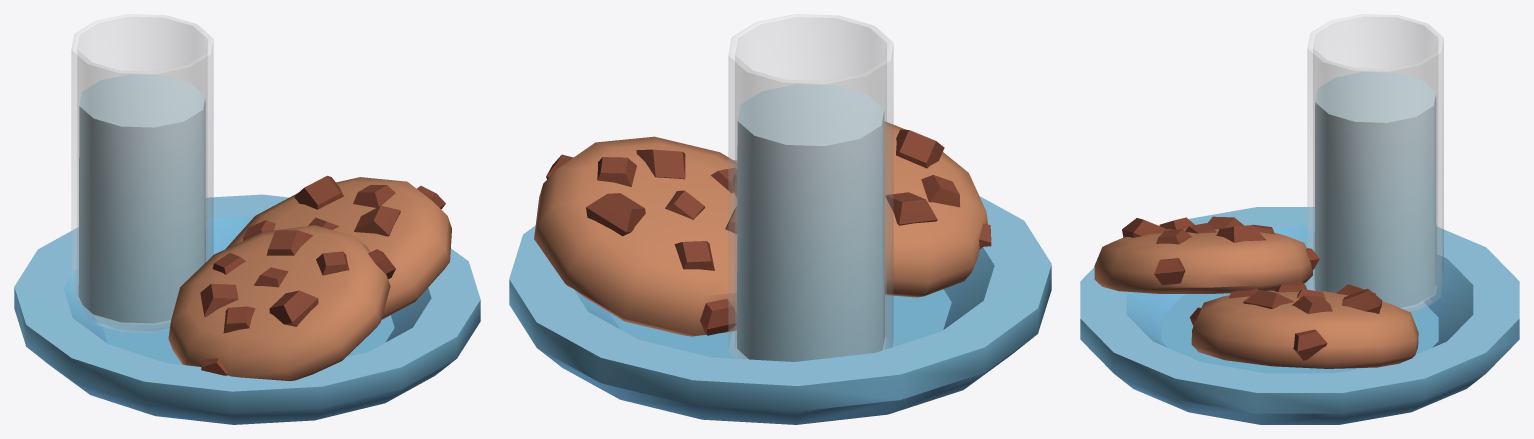
Rendered from plate_decorated_B.gltf.
3 renders of one model, left to right at view 1: azimuth 30°, elevation 25°; view 2: azimuth 150°, elevation 25°; view 3: azimuth 270°, elevation 25°, orthographic. The views are drawn at different scales.
Visible parts, largest first — view 1: plate_decorated_B; view 2: plate_decorated_B; view 3: plate_decorated_B.
Part boxes in pixels (<box>): plate_decorated_B: <box>14,14,480,424</box>; plate_decorated_B: <box>509,14,1051,424</box>; plate_decorated_B: <box>1080,14,1519,424</box>.
Bounding box in the file's own units: 0.95 × 0.642 × 0.95.
Materials: 2 (1 with a texture image).
